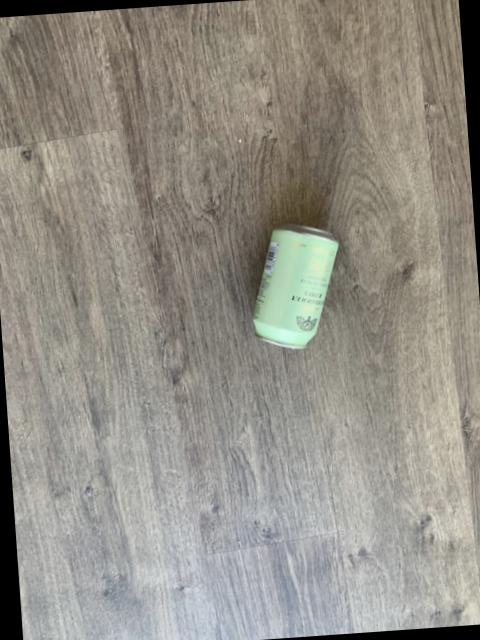metal: (251, 224, 335, 349)
